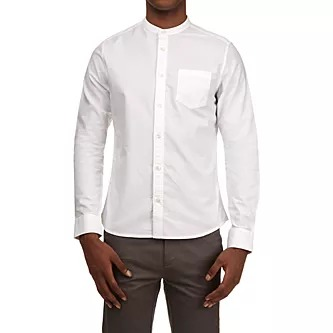S_shirt: (71, 18, 257, 260)
